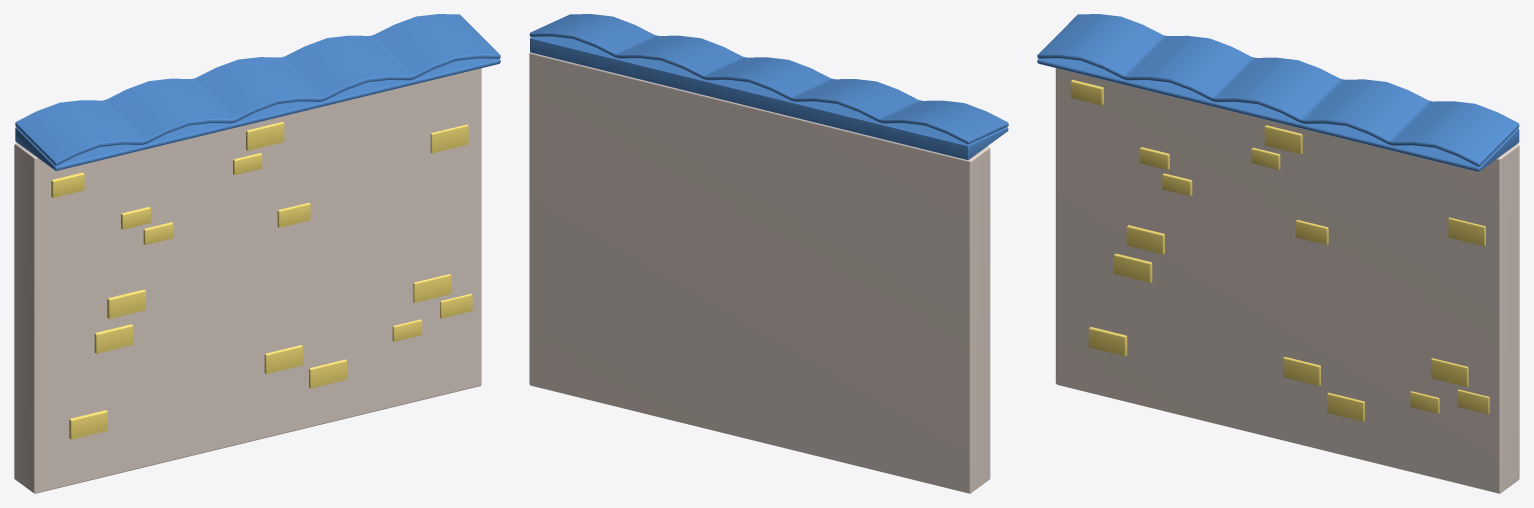
File: Wall_31.glb
3 renders of one model, left to right at view 1: azimuth 30°, elevation 25°; view 2: azimuth 150°, elevation 25°; view 3: azimuth 330°, elevation 25°, orthographic.
Parts seen in each view (by area): view 1: Wall_31; view 2: Wall_31; view 3: Wall_31.
Boxes of the visible parts, x1,y1,x2,y2 form: Wall_31: [14, 14, 500, 493]; Wall_31: [529, 14, 1008, 493]; Wall_31: [1037, 14, 1519, 493].
Size of the model in its own units: 5 by 3.91 by 0.8113.
1 material, 1 textured.
